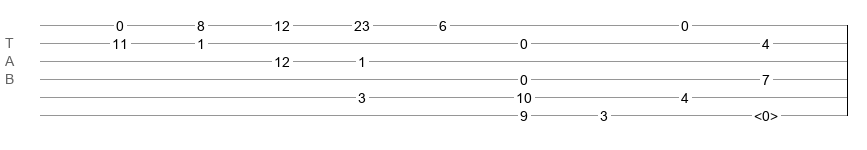0: (116, 18, 124, 28), (520, 36, 528, 46), (520, 72, 528, 82), (681, 18, 689, 28)
1: (197, 36, 205, 46), (358, 54, 366, 64)
10: (516, 90, 532, 100)
11: (112, 36, 128, 46)
12: (274, 54, 290, 64), (274, 18, 290, 28)
23: (354, 18, 370, 28)
3: (358, 90, 366, 100), (600, 108, 608, 118)
4: (681, 90, 689, 100), (762, 36, 770, 46)
6: (439, 18, 447, 28)
7: (762, 72, 770, 82)
8: (197, 18, 205, 28)
9: (520, 108, 528, 118)
harmonic: (754, 108, 778, 118)
